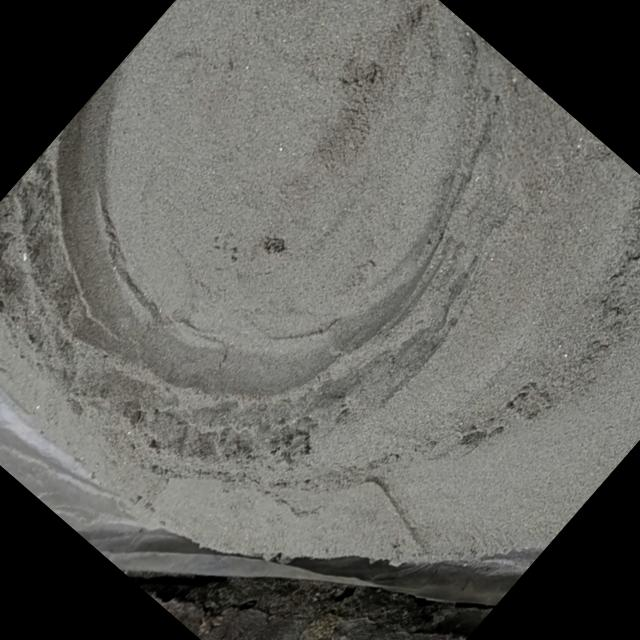C40: (48, 0, 491, 408)
